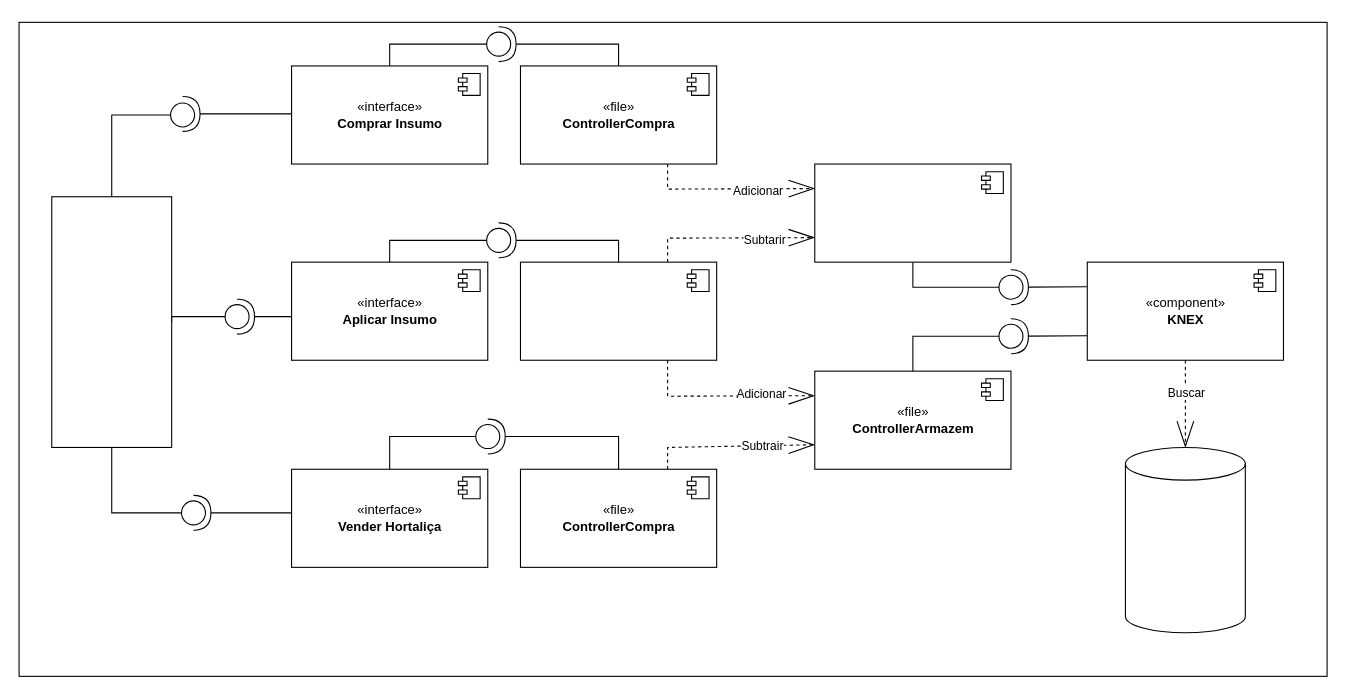
This 1346x695 diagram has some shape labels left out. Here are the shapes that lost their labels. From the top down, the centre of each, then its label:
At point (912, 212): "«file» ControllerCeleiro".
At point (111, 321): "Usuário".
At point (618, 310): "«file» ControllerEstufa".
At point (1184, 539): "MySQL".
